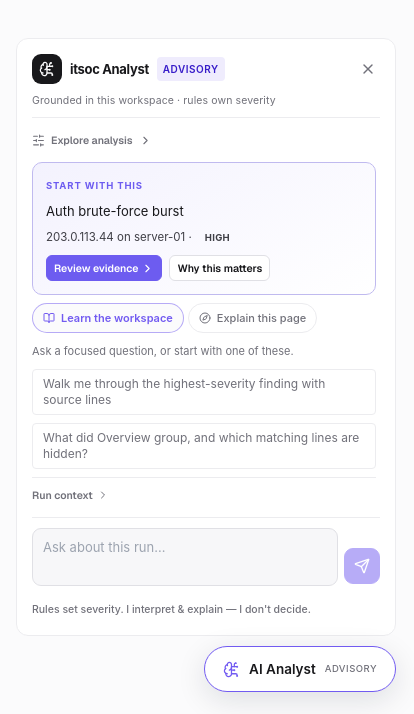
Scenario: CB-1 — learned second opinion in the copilot rail › states the stored per-incident opinion — rule verdict, model opinion, agreement
Type "What does the learned model say about inc-2c97?" into the text box at (185, 557), box [32, 528, 338, 586]
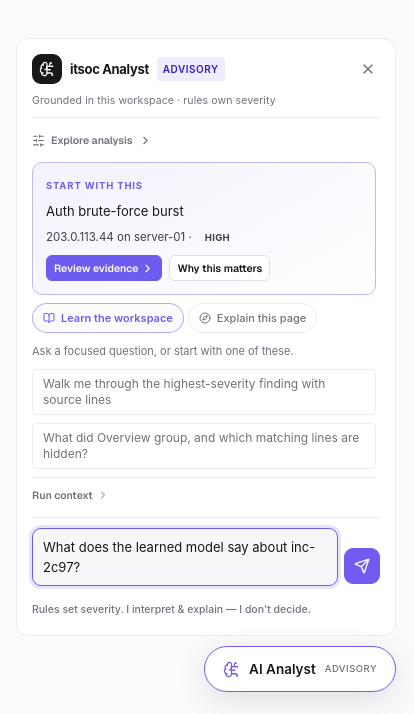
Click the button named "send" at (362, 566), box [344, 548, 380, 584]
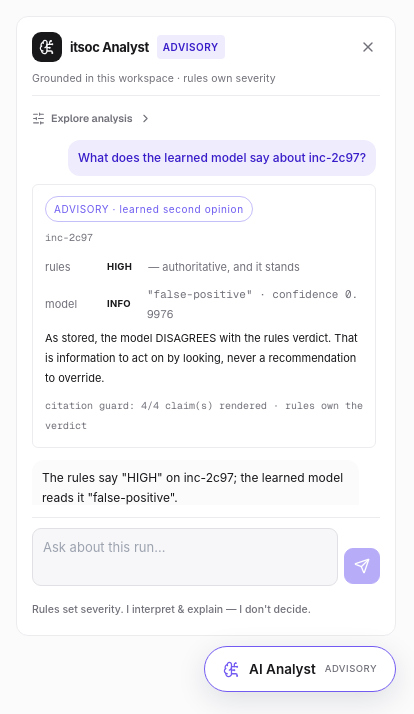
Result: the element with test id "copilot-learned" shows "inc-2c97" at [45, 231, 93, 244]
Result: the element with test id "copilot-learned" shows "HIGH" at [107, 261, 132, 272]
Result: the element with test id "copilot-learned" shows "INFO" at [107, 298, 131, 309]
